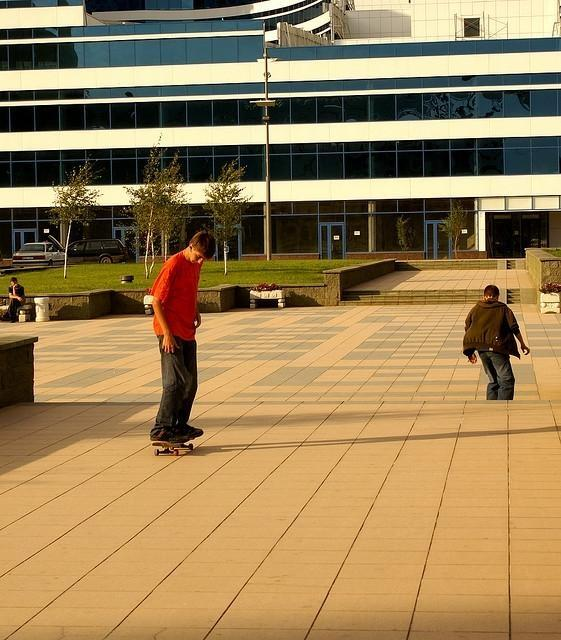car: (67, 239, 127, 264), (12, 242, 65, 268)
